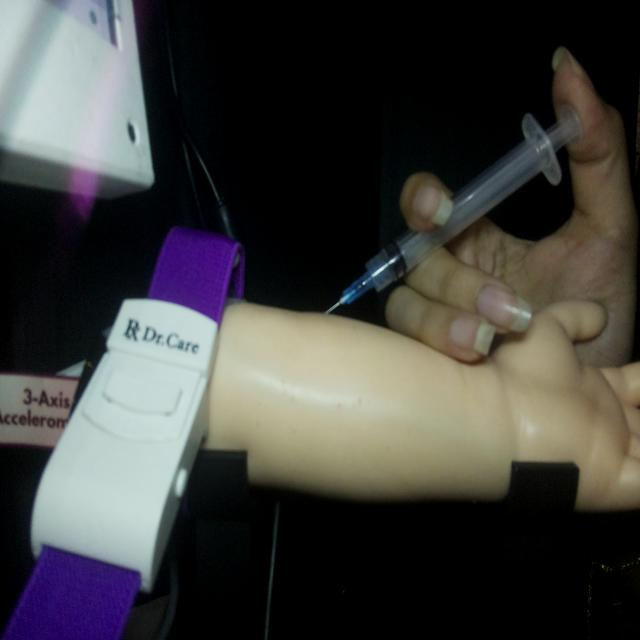27 degrees: (323, 100, 583, 317)
